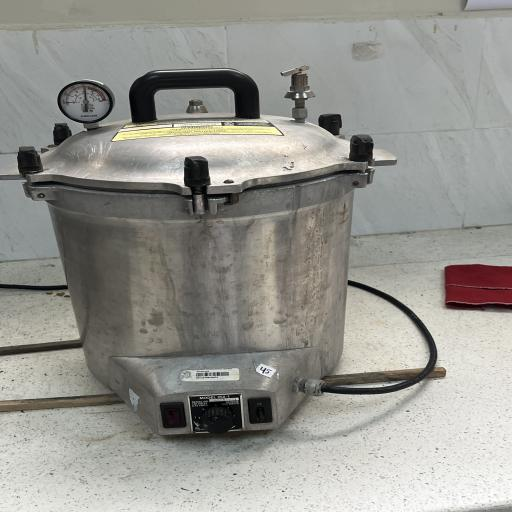Autoclave: (4, 57, 400, 445)
